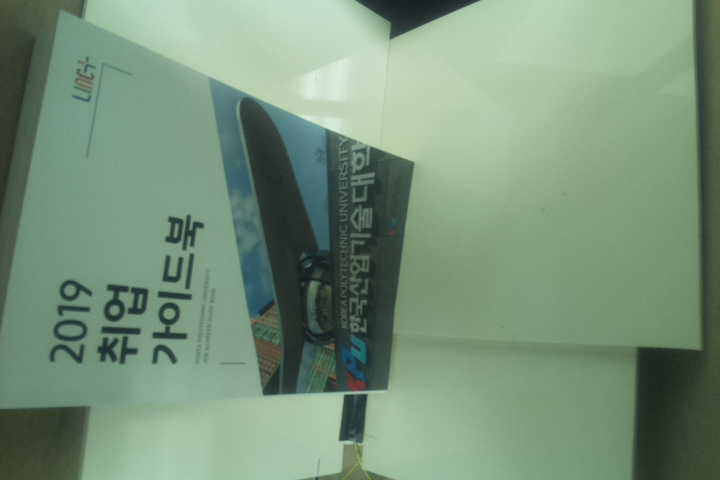book: (1, 4, 416, 415)
